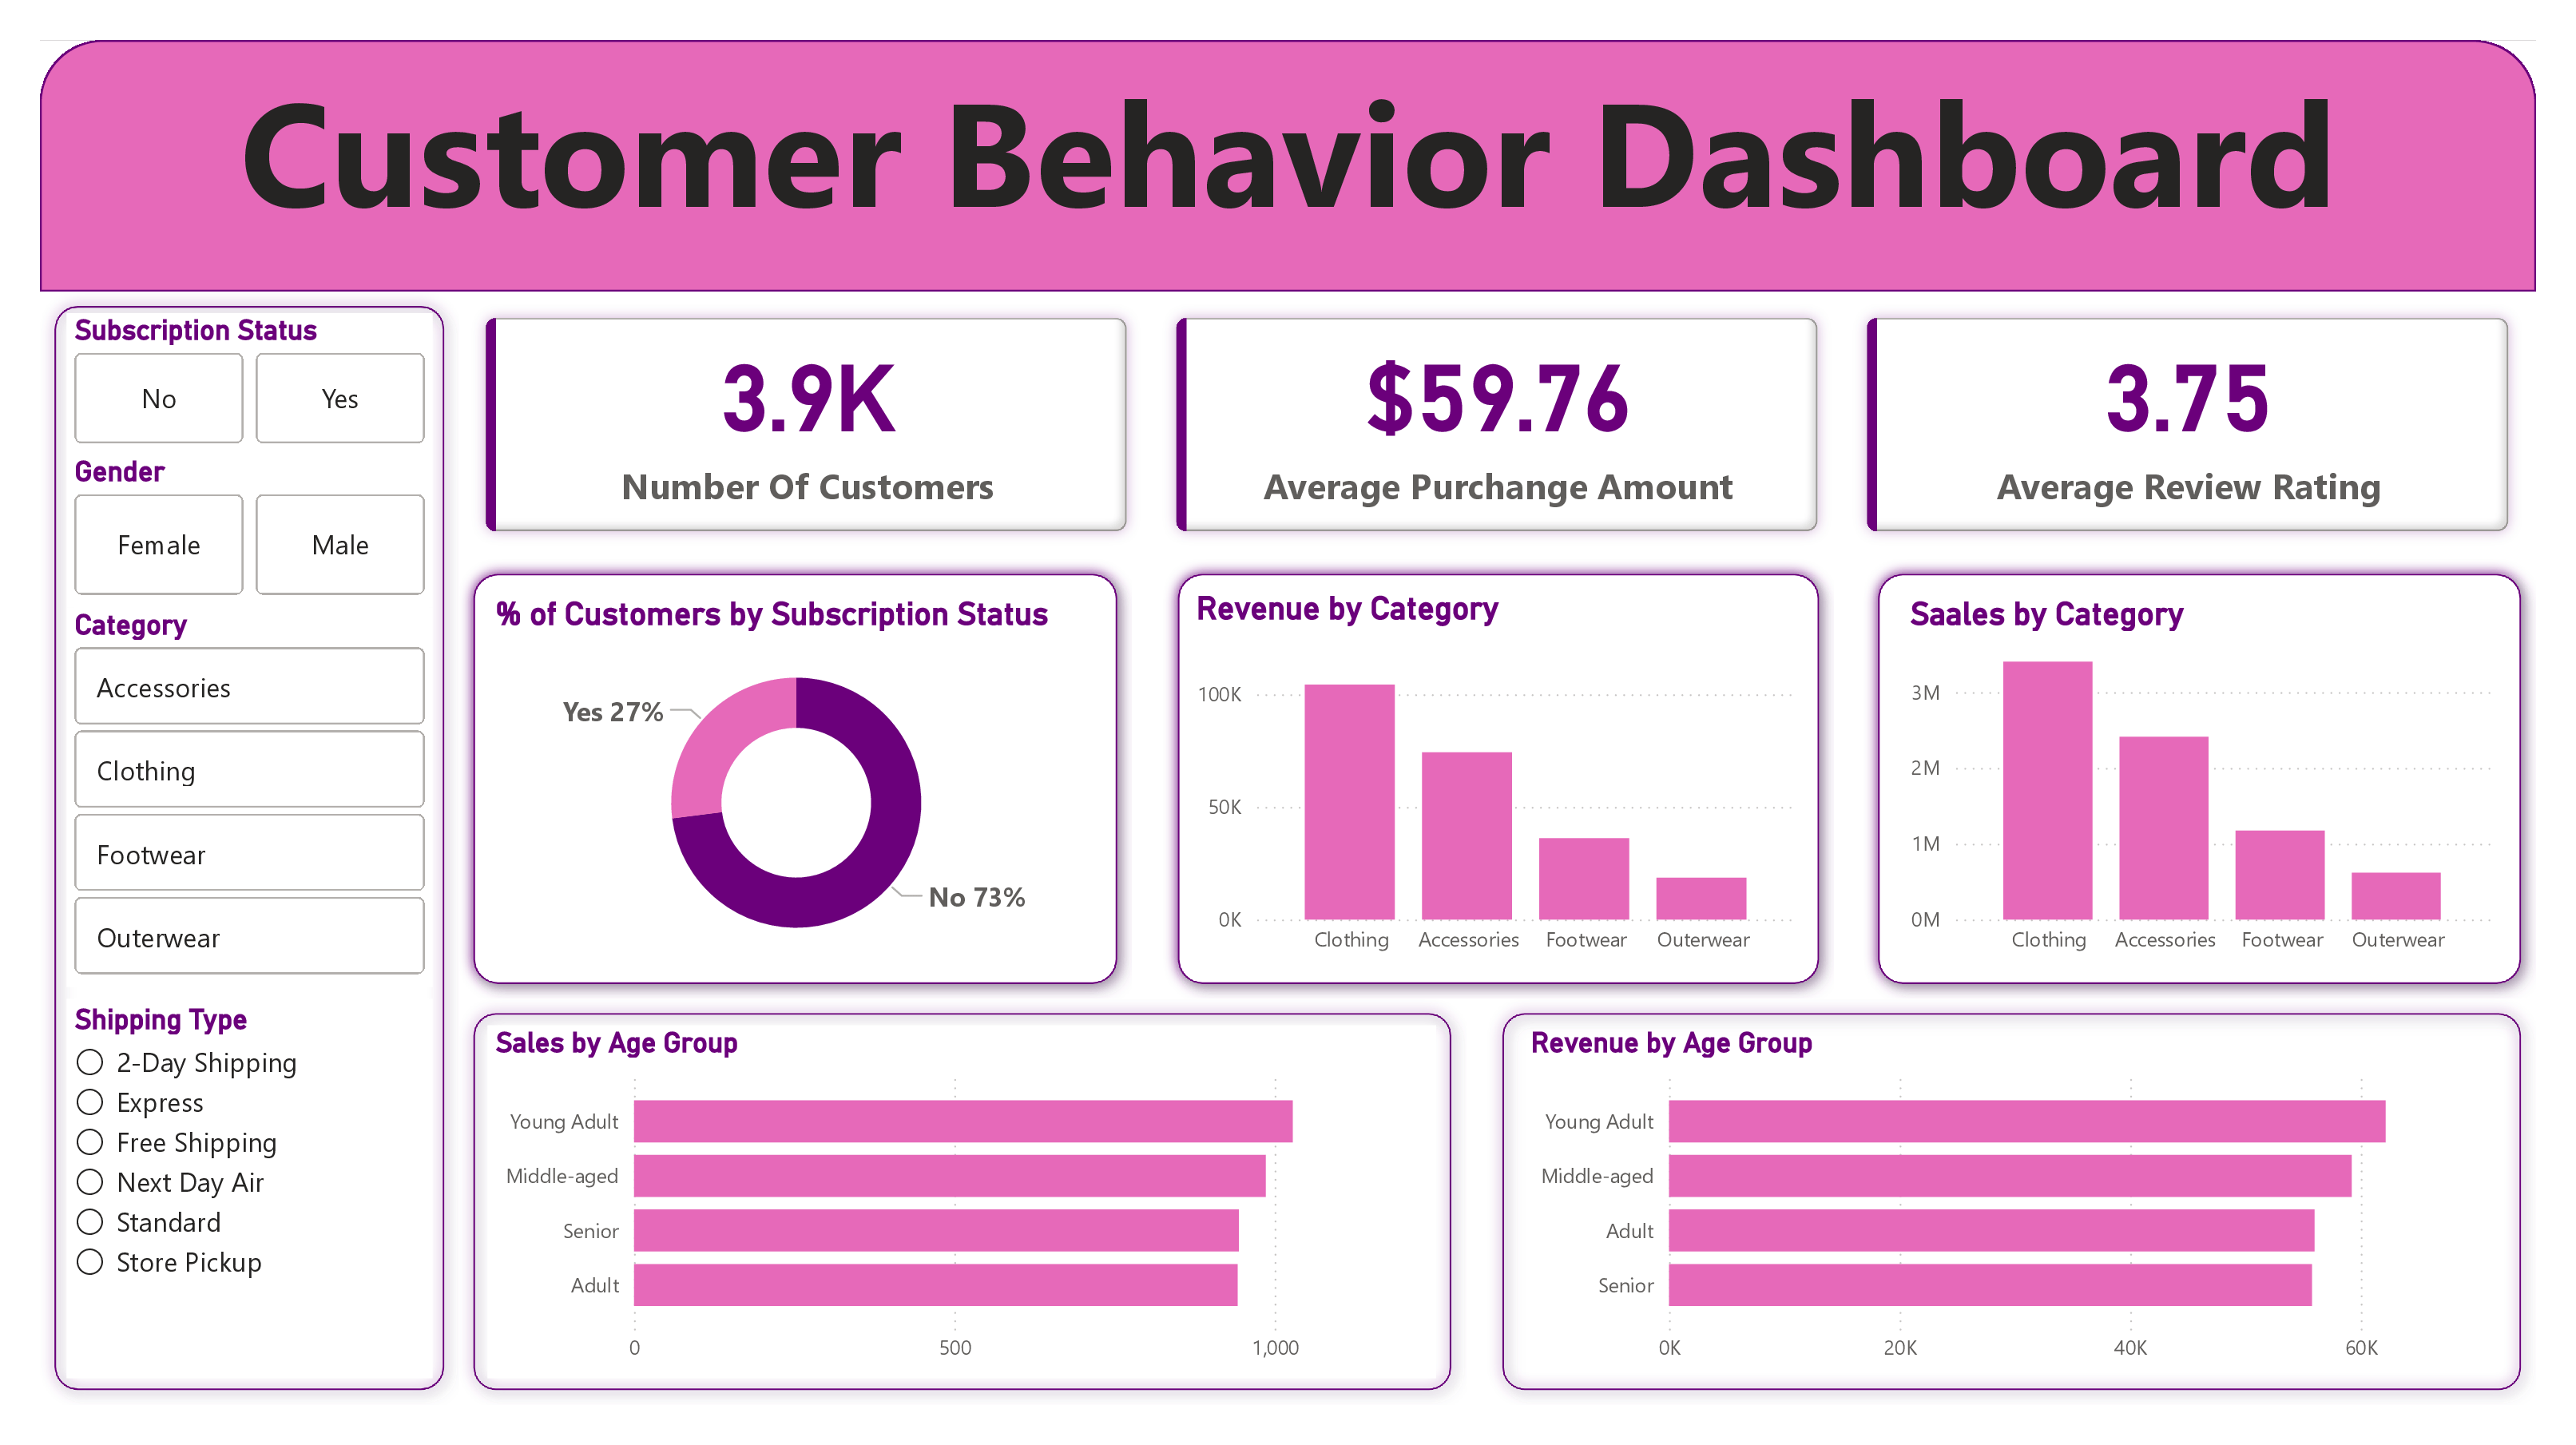

What the dashboard file says about the page in this screenshot:
{"tool":"powerbi","page":{"name":"Page 1","canvas":[1500,820],"ordinal":0},"visuals":[{"type":"cardVisual","fields":{"Data":["customer_behavior customer.Number Of Customers","customer_behavior customer.Average Purchange Amount","customer_behavior customer.Average Review Rating"]},"box":[252.5,151.2,1247.9,160.8],"z":0},{"type":"shape","box":[0,0,1500.3,151.2],"z":1000},{"type":"textbox","box":[0,0,1500,151.7],"z":2000},{"type":"shape","box":[252.5,312,403.6,263.7],"z":3000},{"type":"shape","box":[674.6,312,403.6,263.7],"z":4000},{"type":"shape","box":[1096.4,312,403.6,263.7],"z":5000},{"type":"donutChart","title":"% of Customers by Subscription Status","fields":{"Category":["customer_behavior customer.subscription_status"],"Y":["CountNonNull(customer_behavior customer.customer_id)"]},"box":[268.5,332.9,371.5,228.3],"z":6000},{"type":"clusteredColumnChart","title":"Revenue by Category","fields":{"Y":["Sum(customer_behavior customer.purchase_amount)"],"Category":["customer_behavior customer.category"]},"box":[689.9,329.7,371.5,228.3],"z":7000},{"type":"clusteredColumnChart","title":"Saales by Category","fields":{"Category":["customer_behavior customer.category"],"Y":["Sum(customer_behavior customer.customer_id)"]},"box":[1119.2,332.9,358.6,225.1],"z":8000},{"type":"shape","box":[0,151.2,252.5,669],"z":9000},{"type":"advancedSlicerVisual","title":"Subscription Status","fields":{"Values":["customer_behavior customer.subscription_status"]},"box":[16.1,164,220.3,85.2],"z":10000},{"type":"advancedSlicerVisual","title":"Gender","fields":{"Values":["customer_behavior customer.gender"]},"box":[16.1,249.3,220.3,91.7],"z":11000},{"type":"advancedSlicerVisual","title":"Category","fields":{"Values":["customer_behavior customer.category"]},"box":[16.1,340.9,220.3,228.3],"z":12000},{"type":"listSlicer","title":"Shipping Type","fields":{"Values":["customer_behavior customer.shipping_type"]},"box":[16.1,575.7,220.3,228.3],"z":13000},{"type":"clusteredBarChart","title":"Revenue by Age Group","fields":{"Y":["Sum(customer_behavior customer.purchase_amount)"],"Category":["customer_behavior customer.age_group"]},"box":[890.9,591.8,588.6,212.3],"z":15000},{"type":"shape","box":[252.5,575.7,604.6,244.4],"z":16000},{"type":"shape","box":[870,575.7,630.4,244.4],"z":18000},{"type":"clusteredBarChart","title":"Sales by Age Group","fields":{"Category":["customer_behavior customer.age_group"],"Y":["CountNonNull(customer_behavior customer.customer_id)"]},"box":[268.5,591.8,570.9,212.3],"z":19000}]}

Visuals, with their boxes in screenshot pixels (x1, y1, x2, y2):
cardVisual - customer_behavior customer.Number Of Customers x customer_behavior customer.Average Purchange Amount: (left=461, top=290, right=2574, bottom=562)
shape: (left=34, top=34, right=2574, bottom=290)
textbox: (left=34, top=34, right=2574, bottom=291)
shape: (left=461, top=562, right=1145, bottom=1009)
shape: (left=1176, top=562, right=1860, bottom=1009)
shape: (left=1891, top=562, right=2574, bottom=1009)
"% of Customers by Subscription Status" donutChart: (left=488, top=597, right=1117, bottom=984)
"Revenue by Category" clusteredColumnChart: (left=1202, top=592, right=1831, bottom=979)
"Saales by Category" clusteredColumnChart: (left=1929, top=597, right=2536, bottom=979)
shape: (left=34, top=290, right=461, bottom=1423)
"Subscription Status" advancedSlicerVisual: (left=61, top=312, right=434, bottom=455)
"Gender" advancedSlicerVisual: (left=61, top=456, right=434, bottom=611)
"Category" advancedSlicerVisual: (left=61, top=611, right=434, bottom=998)
"Shipping Type" listSlicer: (left=61, top=1009, right=434, bottom=1395)
"Revenue by Age Group" clusteredBarChart: (left=1542, top=1036, right=2539, bottom=1395)
shape: (left=461, top=1009, right=1485, bottom=1423)
shape: (left=1507, top=1009, right=2574, bottom=1423)
"Sales by Age Group" clusteredBarChart: (left=488, top=1036, right=1455, bottom=1395)
